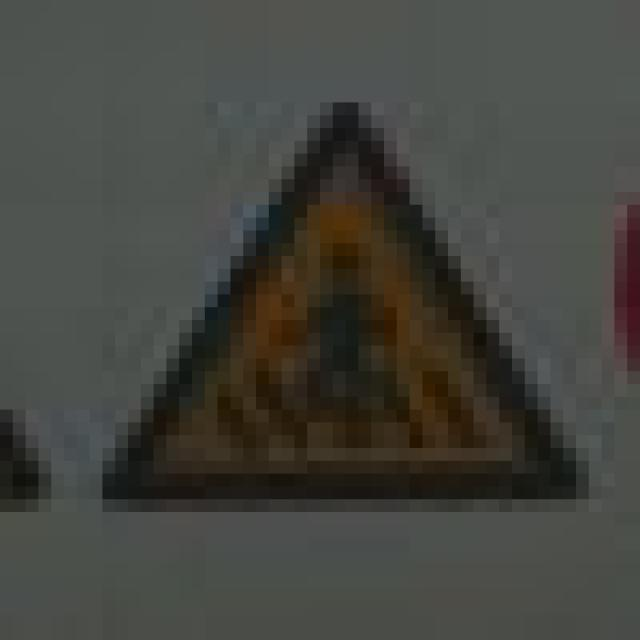pass_either_side: (90, 77, 576, 499)
